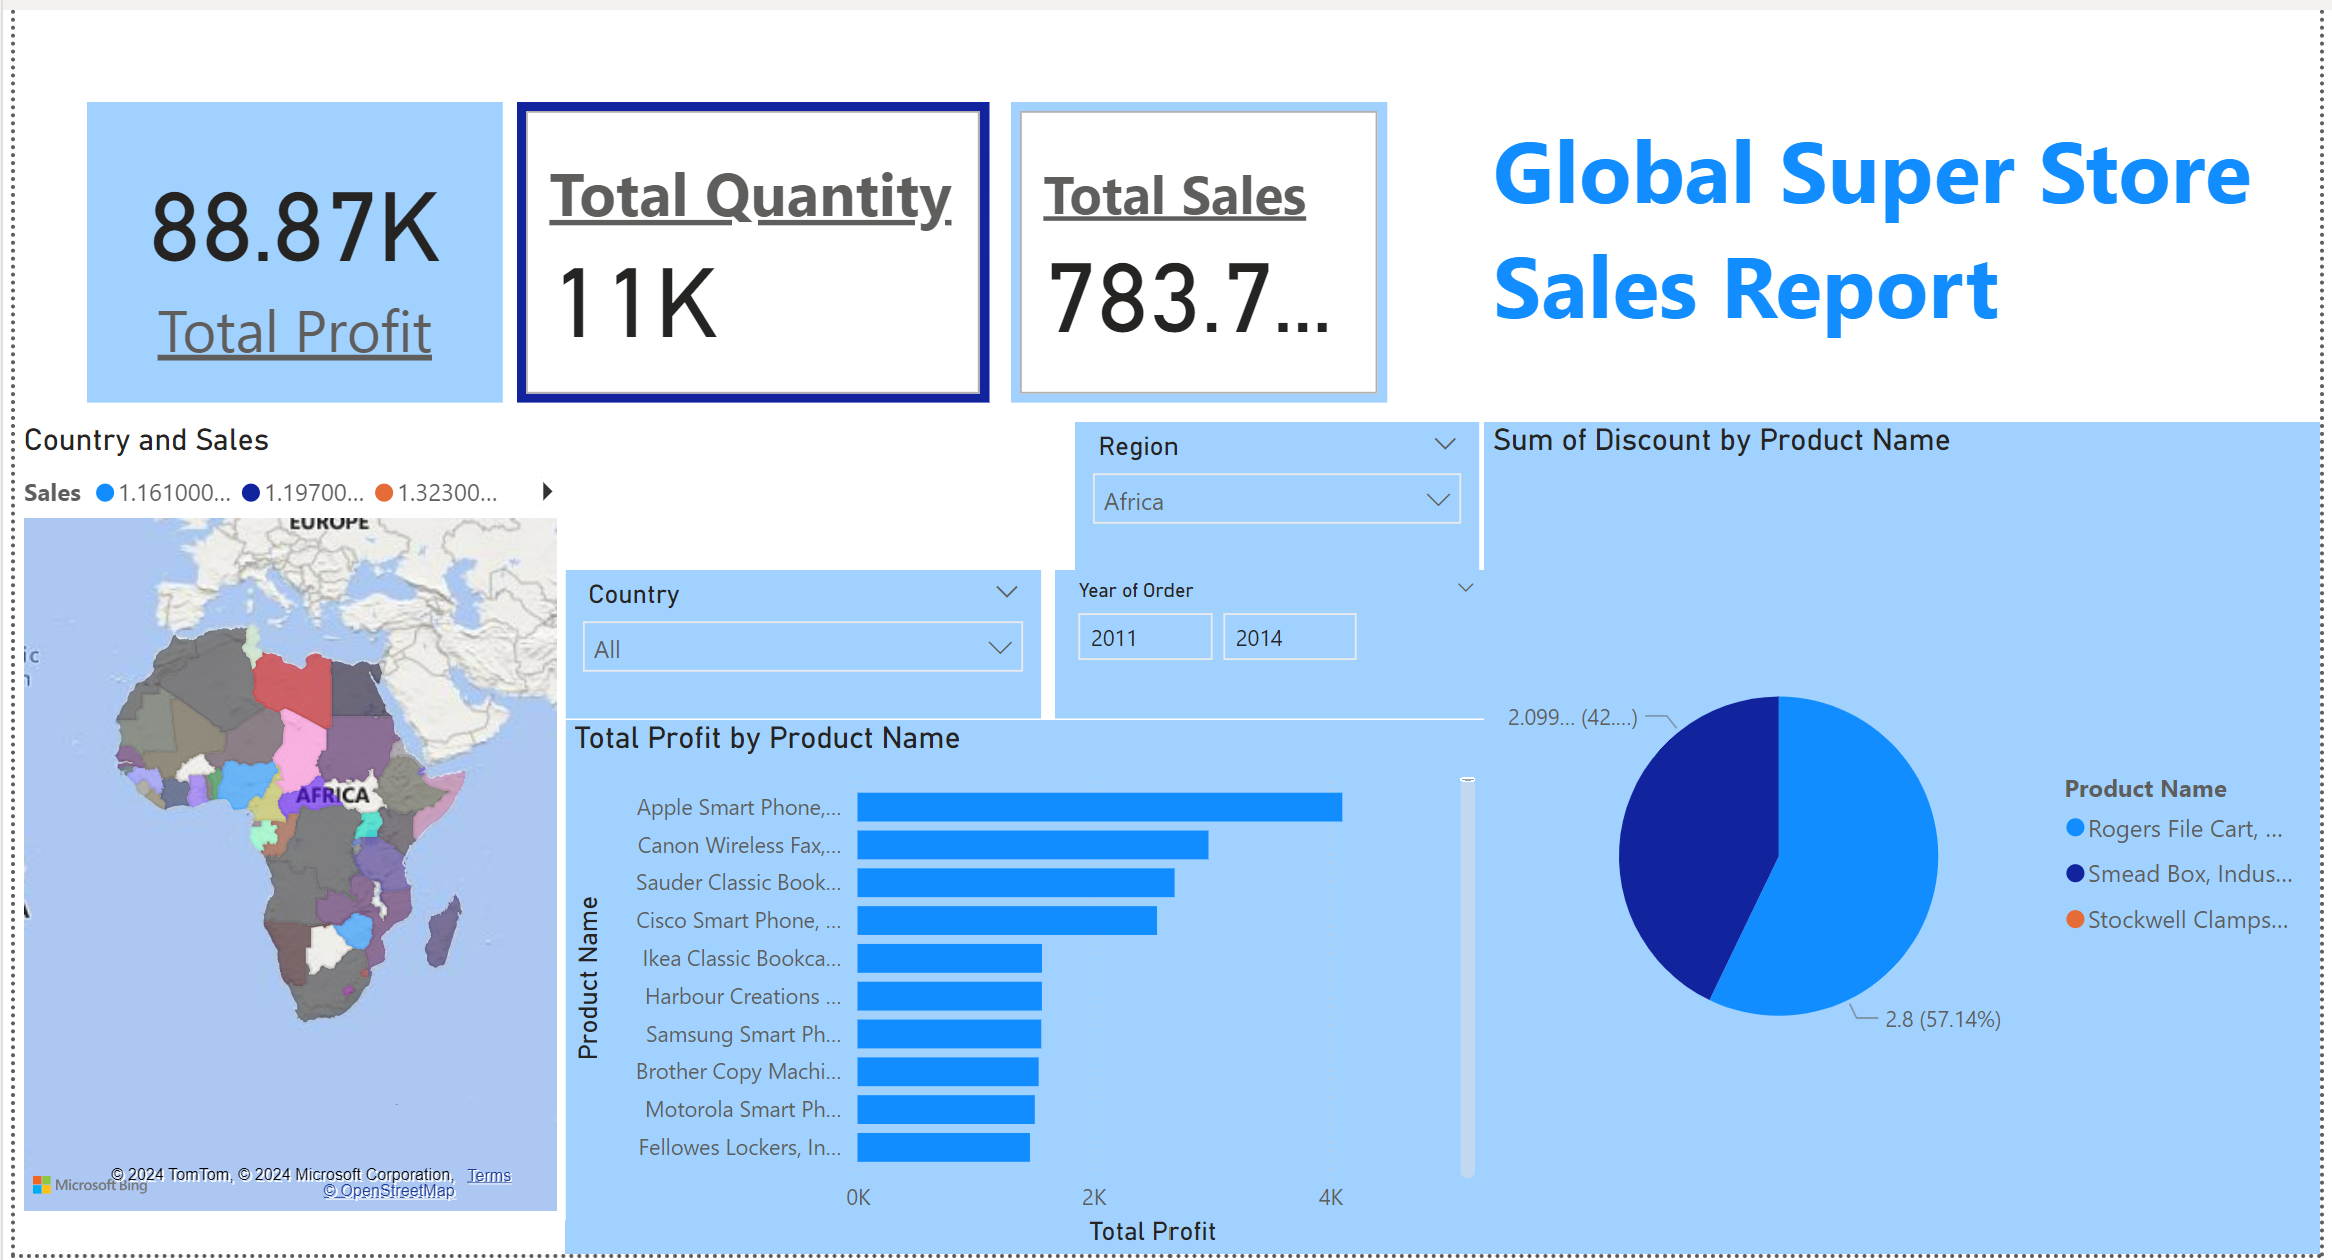

What the dashboard file says about the page in this screenshot:
{"tool":"powerbi","page":{"name":"Overview","canvas":[1280,720],"ordinal":0},"visuals":[{"type":"card","fields":{"Values":["Orders.Total Profit"]},"box":[40.4,79.6,230.9,167],"z":0},{"type":"cardVisual","fields":{"Data":["Orders.Total Quantity"]},"box":[279.1,79.6,262.3,167],"z":1000},{"type":"cardVisual","fields":{"Data":["Orders.Total Sales"]},"box":[553.7,79.6,208.5,167],"z":2000},{"type":"slicer","fields":{"Values":["Orders.Year of Order"]},"box":[577.9,340.4,245.2,82.7],"z":3000},{"type":"slicer","fields":{"Values":["Orders.Region"]},"box":[589.4,257.7,224,82.7],"z":4000},{"type":"slicer","fields":{"Values":["Orders.Country"]},"box":[305.8,340.4,264.4,82.7],"z":5000},{"type":"slicer","fields":{"Values":["Orders.Market"]},"box":[870,304.6,272.4,82.2],"z":6000},{"type":"barChart","fields":{"Category":["Orders.Product Name"],"Y":["Orders.Total Profit"]},"box":[305.7,422.9,510,297.1],"z":7000},{"type":"pieChart","fields":{"Category":["Orders.Product Name"],"Y":["Sum(Orders.Discount)"]},"box":[815.4,257.7,464.4,463.5],"z":8000},{"type":"filledMap","fields":{"Series":["Orders.Sales"],"Category":["Orders.Country"]},"box":[0,257.7,305.8,443.3],"z":9000},{"type":"textbox","box":[816,79,464,150],"z":10000}]}

Visuals, with their boxes on the page's 1280x720 design canvas (x1, y1, x2, y2). These are canvas units, not pixel positions in the 2332x1260 screenshot, which may show the page scaled, cropped or inside an application window:
card - Orders.Total Profit: 40/80/271/247
cardVisual - Orders.Total Quantity: 279/80/541/247
cardVisual - Orders.Total Sales: 554/80/762/247
slicer - Orders.Year of Order: 578/340/823/423
slicer - Orders.Region: 589/258/813/340
slicer - Orders.Country: 306/340/570/423
slicer - Orders.Market: 870/305/1142/387
barChart - Orders.Product Name x Orders.Total Profit: 306/423/816/720
pieChart - Orders.Product Name x Sum(Orders.Discount): 815/258/1280/721
filledMap - Orders.Sales x Orders.Country: 0/258/306/701
textbox: 816/79/1280/229
